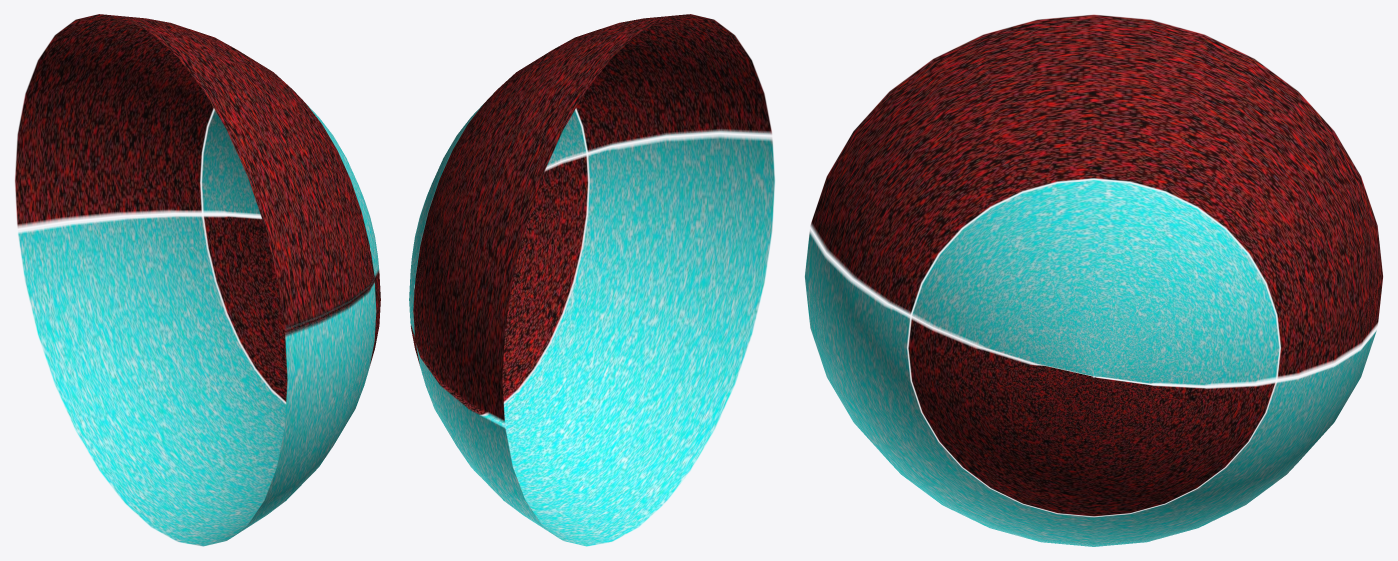
The picture shows the model from 3 angles, left to right: view 1: azimuth 30°, elevation 25°; view 2: azimuth 150°, elevation 25°; view 3: azimuth 270°, elevation 25°; orthographic projection. The views are drawn at different scales.
Visible parts, largest first — view 1: SM_VFX_Shockwave_LOD0; view 2: SM_VFX_Shockwave_LOD0; view 3: SM_VFX_Shockwave_LOD0.
Boxes of the visible parts, x1,y1,x2,y2 form: SM_VFX_Shockwave_LOD0: (15,14,380,546); SM_VFX_Shockwave_LOD0: (409,14,774,546); SM_VFX_Shockwave_LOD0: (805,14,1382,546).
Bounding box in the file's own units: 0.8051 × 1.96 × 1.96.
1 material, 1 textured.
